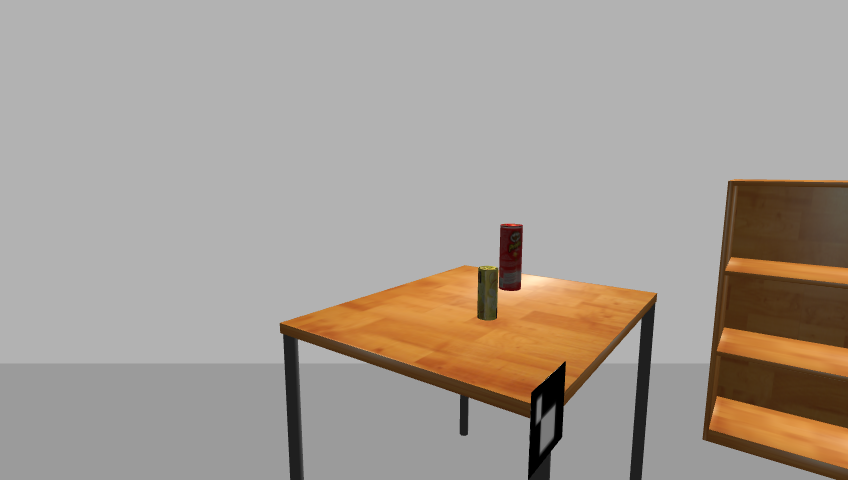aruco marker: (526, 362, 568, 480)
biscuits pack: (477, 265, 498, 321)
bookshelf: (699, 179, 848, 480)
dinner table: (273, 264, 667, 480)
pringles can: (497, 223, 525, 293)
